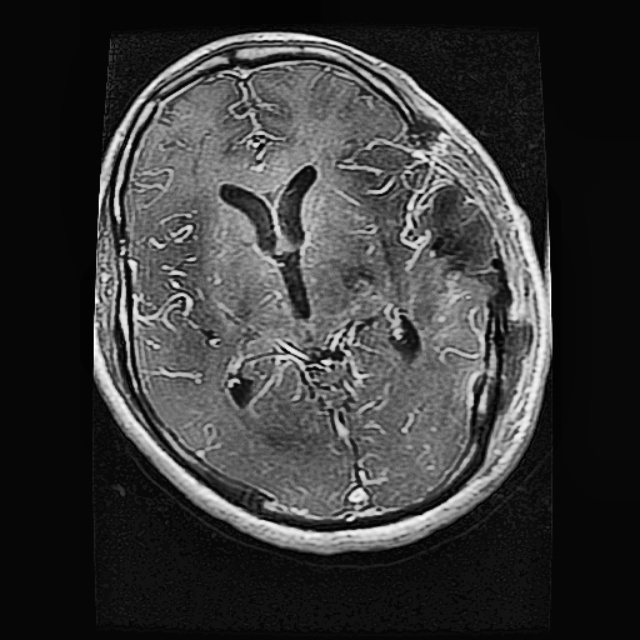Pituitary: (412, 178, 499, 277)
